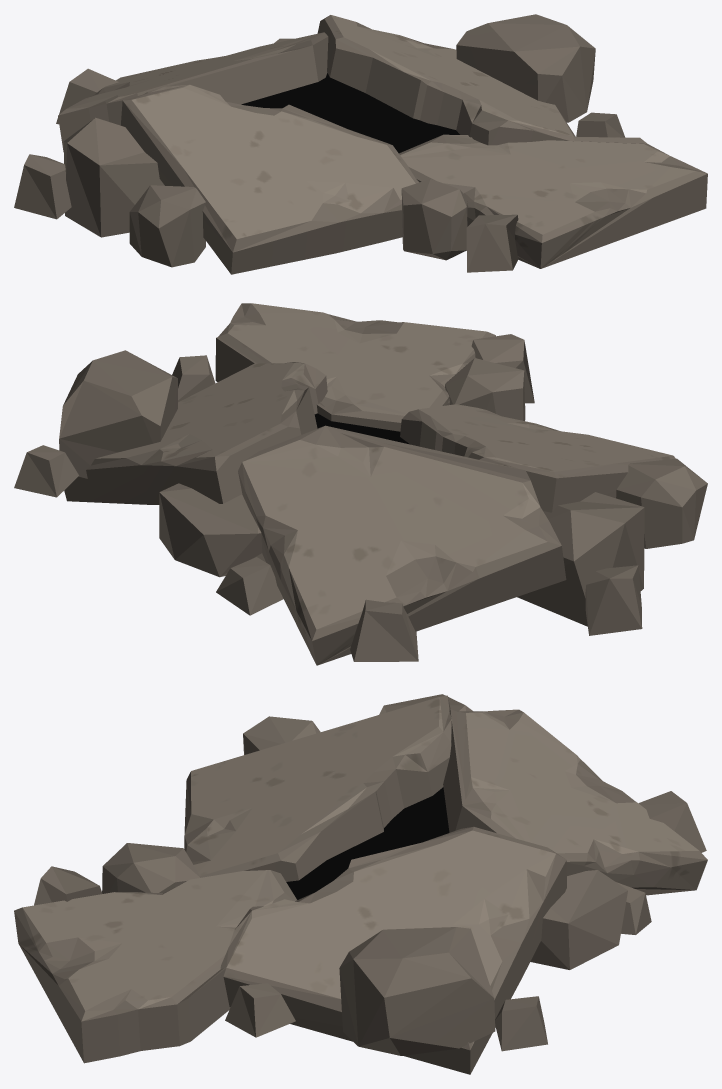
File: floor_cracked.glb
3 renders of one model, top to bottom at view 1: azimuth 30°, elevation 25°; view 2: azimuth 150°, elevation 25°; view 3: azimuth 270°, elevation 25°, orthographic. The views are drawn at different scales.
Parts seen in each view (by area): view 1: SM_Env_Dwarf_Floor_Crack_01; view 2: SM_Env_Dwarf_Floor_Crack_01; view 3: SM_Env_Dwarf_Floor_Crack_01.
Boxes of the visible parts, x1=… form: SM_Env_Dwarf_Floor_Crack_01: x1=14, y1=14, x2=707, y2=274; SM_Env_Dwarf_Floor_Crack_01: x1=14, y1=303, x2=707, y2=665; SM_Env_Dwarf_Floor_Crack_01: x1=14, y1=694, x2=707, y2=1074.
Bounding box in the file's own units: 6.73 × 1.41 × 6.34.
1 material, 1 textured.
